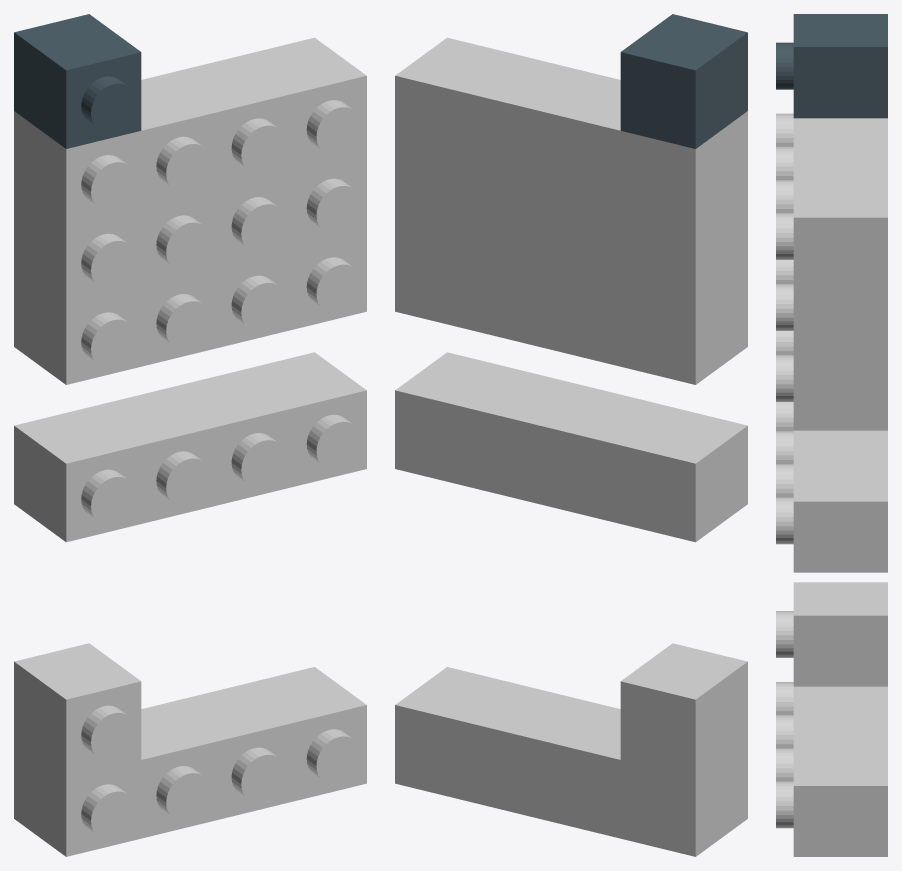
Rendered from current.glb.
3 renders of one model, left to right at view 1: azimuth 30°, elevation 25°; view 2: azimuth 150°, elevation 25°; view 3: azimuth 270°, elevation 25°, orthographic. The views are drawn at different scales.
Parts seen in each view (by area): view 1: world; view 2: world; view 3: world.
Part boxes in pixels (x1,y1,x2,y2): world: (14,14,366,856); world: (395,14,747,856); world: (776,14,887,856).
Size of the model in its own units: 32 by 80 by 11.4.
